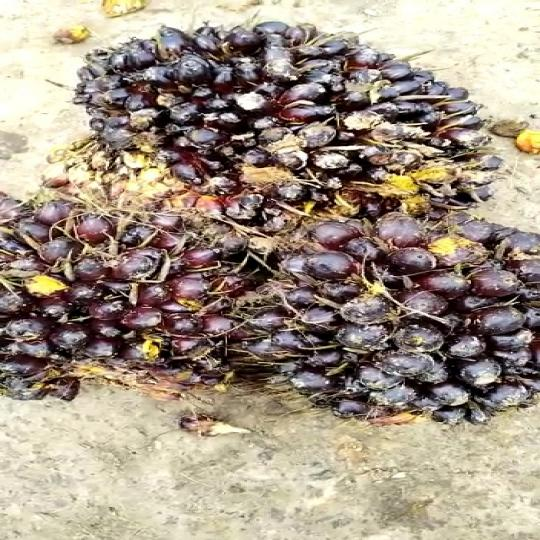mentah: (72, 6, 489, 220), (248, 209, 538, 430), (0, 199, 252, 414)
